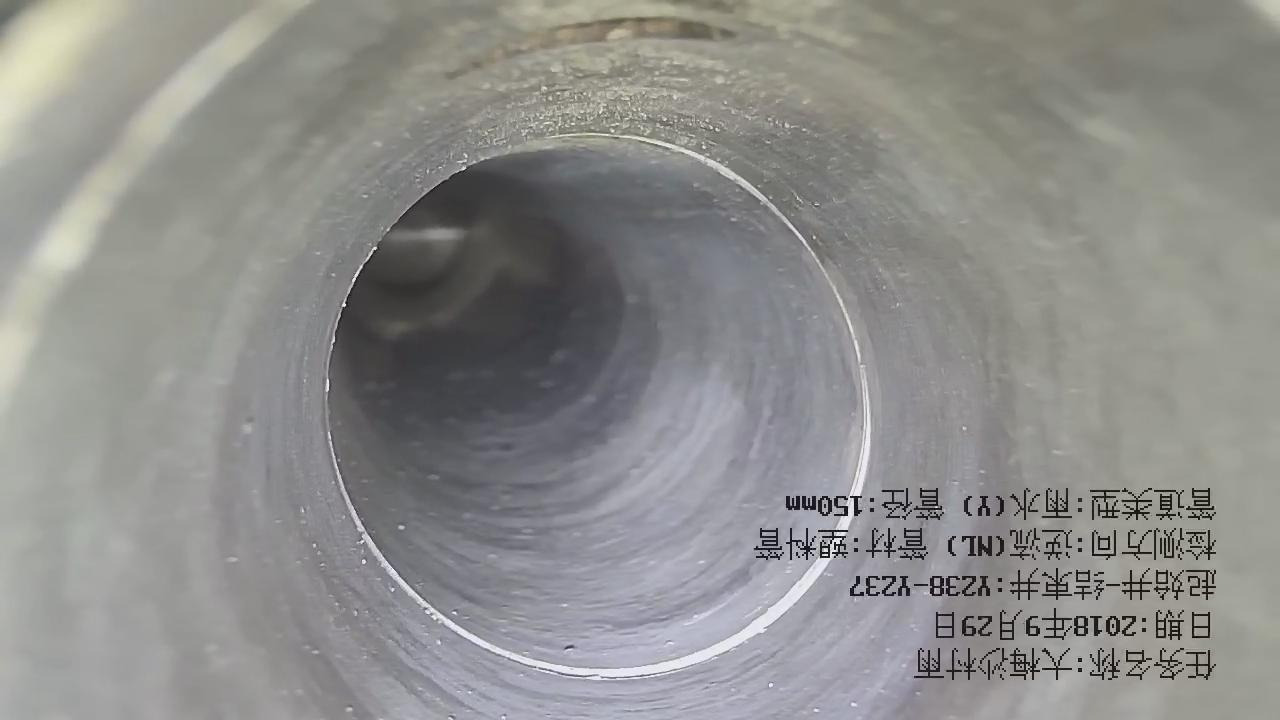CKTJ: (317, 126, 877, 685)
